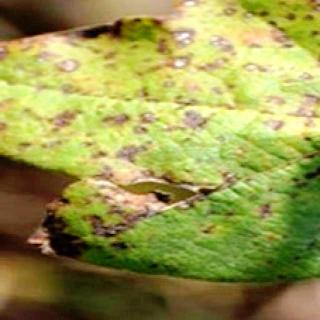leaf spot: (1, 35, 320, 263)
